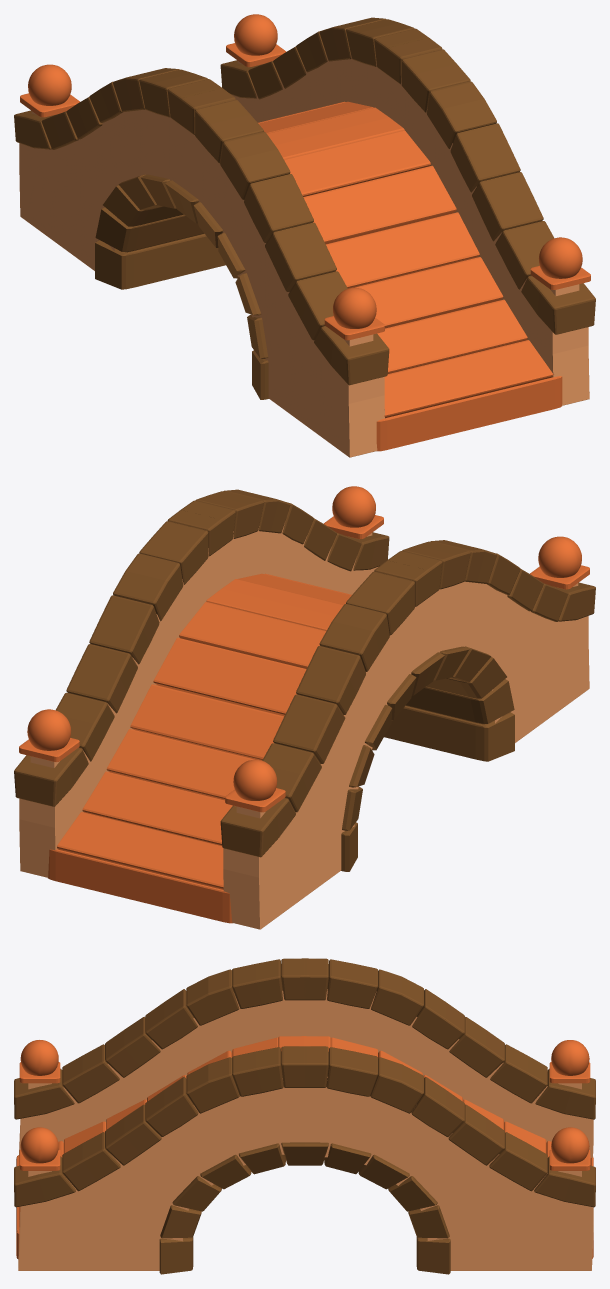
Rendered from humped.glb.
3 renders of one model, top to bottom at view 1: azimuth 30°, elevation 25°; view 2: azimuth 150°, elevation 25°; view 3: azimuth 270°, elevation 25°, orthographic. The views are drawn at different scales.
Visible parts, largest first — view 1: Cube; view 2: Cube; view 3: Cube.
Part boxes in pixels (x1,y1,x2,y2): Cube: (14, 14, 595, 457); Cube: (14, 486, 595, 929); Cube: (14, 958, 595, 1274).
Bounding box in the file's own units: 2.6 × 2.36 × 5.93.
